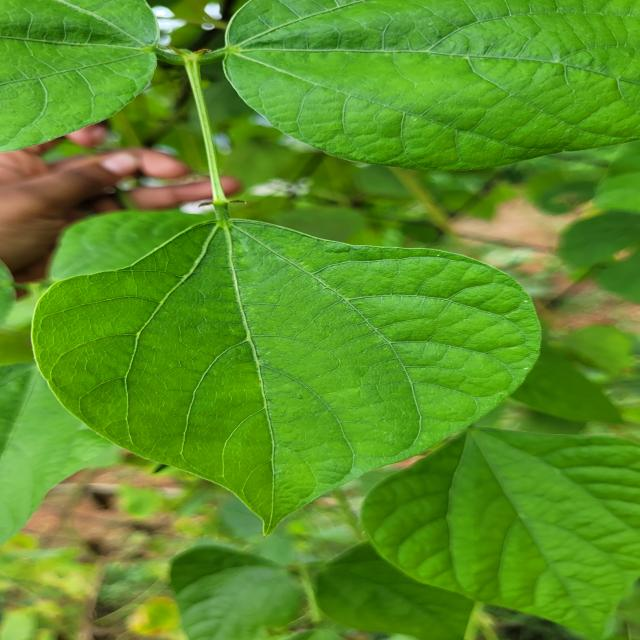Dolicos bean_healthy: (36, 218, 543, 534), (232, 0, 640, 163), (350, 429, 640, 640), (0, 0, 174, 157)
